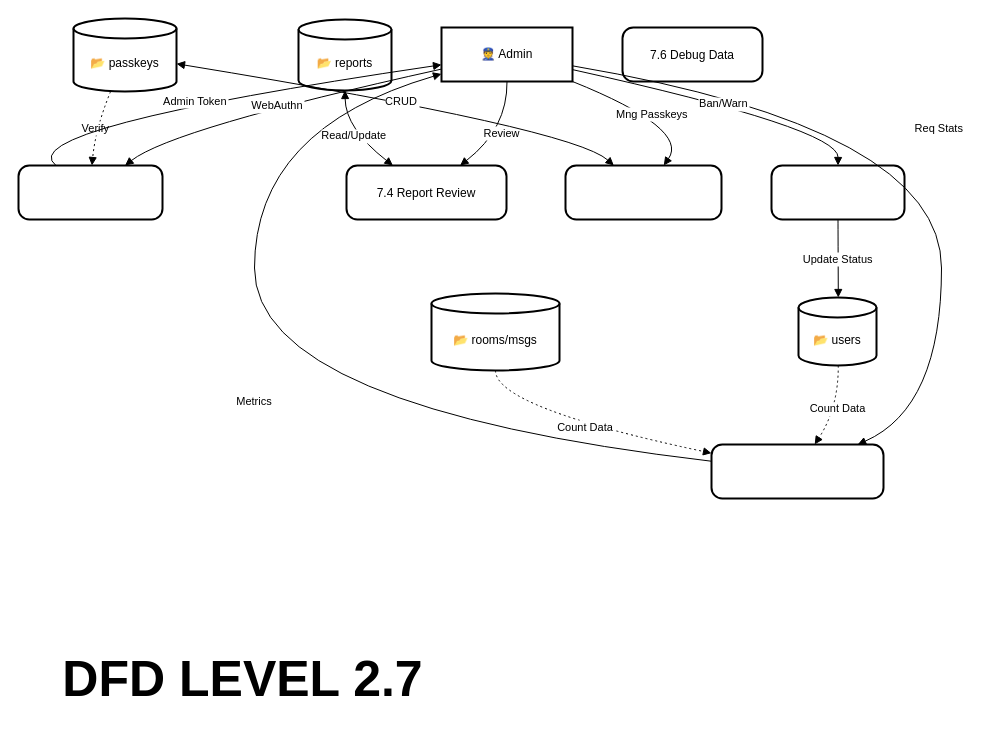
Some shapes in this 981 by 735 pixel diagram are drawn without their labels. The shapes that lost their labels are listed below. From the top down, each one's centre as x and y in pixels, then its label:
At point 90,192: "7.1 Admin Login".
At point 643,192: "7.5 Passkey Mgmt".
At point 837,192: "7.3 User Mgmt".
At point 797,471: "7.2 Dashboard Stats".
